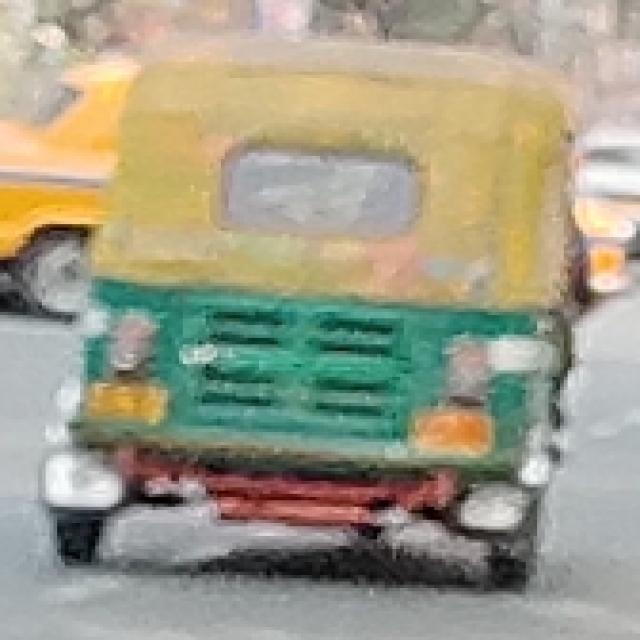autorickshaw: (49, 36, 584, 588)
